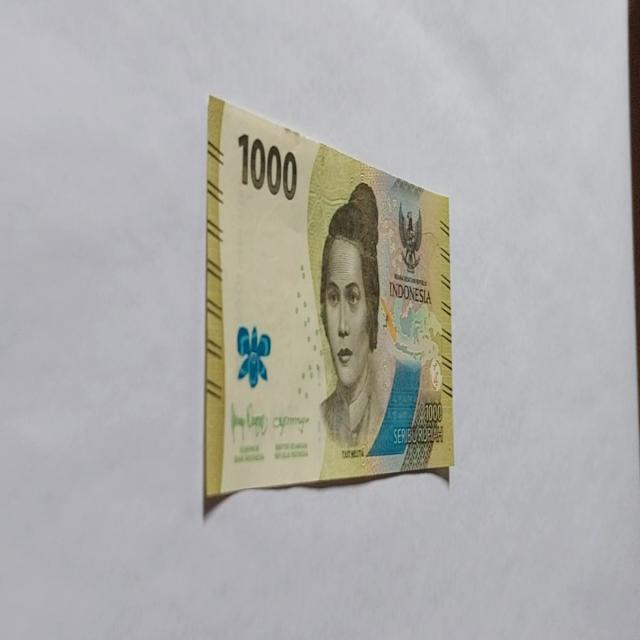seribu rupiah kertas: (204, 94, 454, 502)
